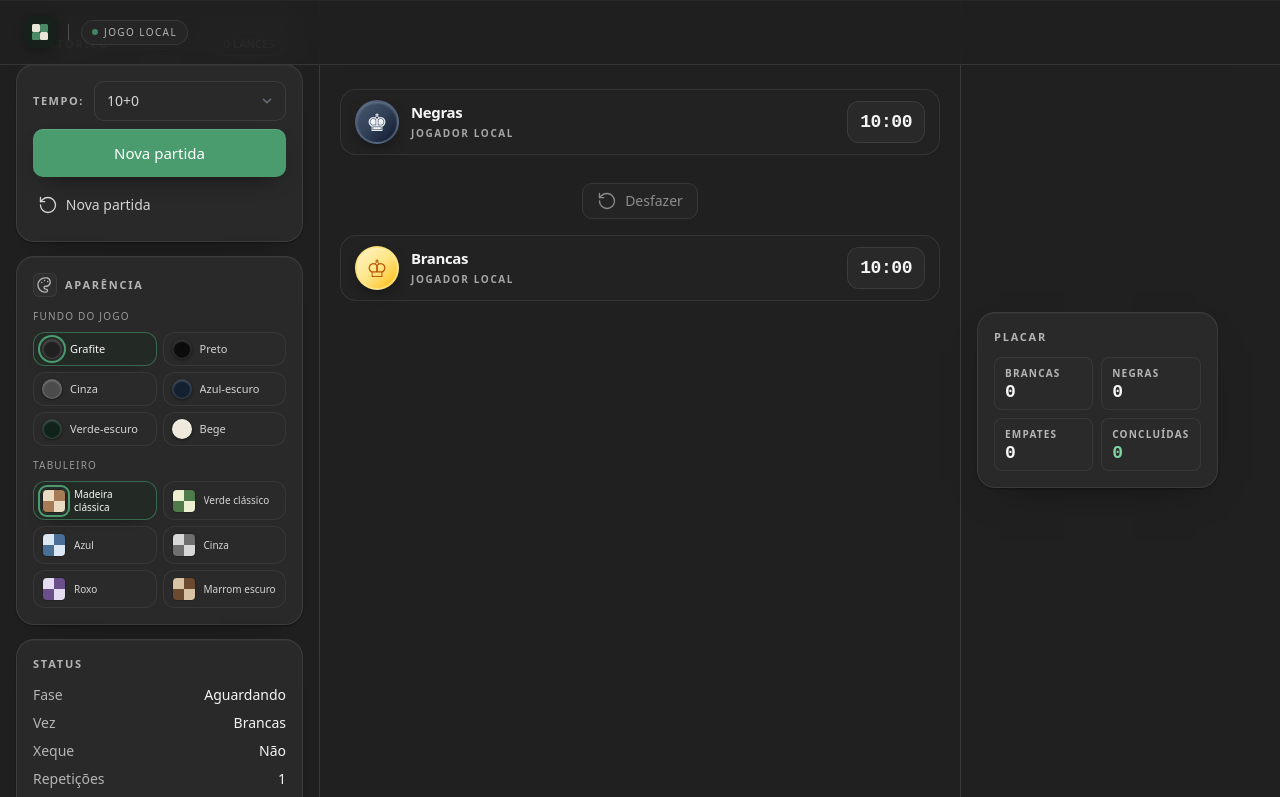
Test case: Personalização visual › aplica fundo e tabuleiro imediatamente e de forma independente
Later steps or results of the test are not shown.
Click the button with aria-label "Fundo Bege".
click(224, 429)  # box [162, 412, 286, 446]
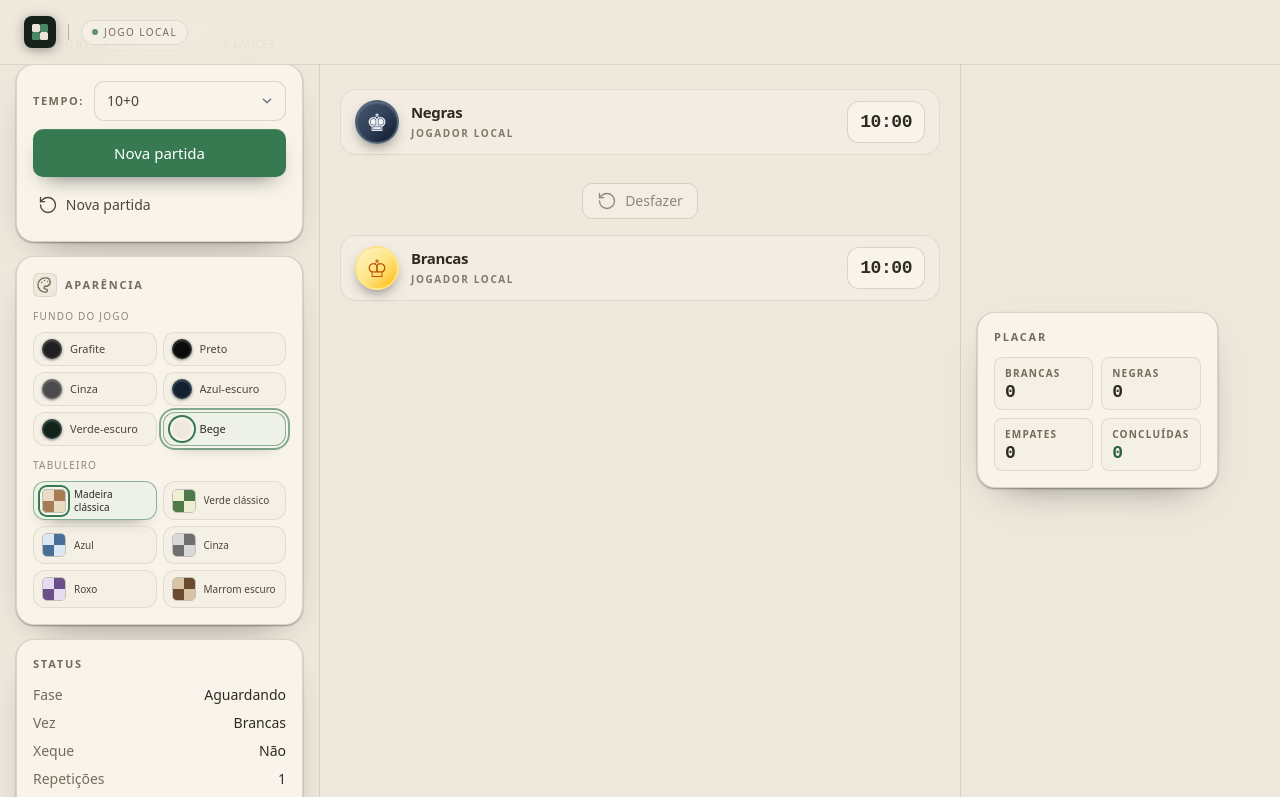
Now the button with aria-label "Fundo Bege" is pressed, box [162, 412, 286, 446]
Click the button with aria-label "Tema Roxo".
click(95, 589)  # box [33, 570, 156, 608]
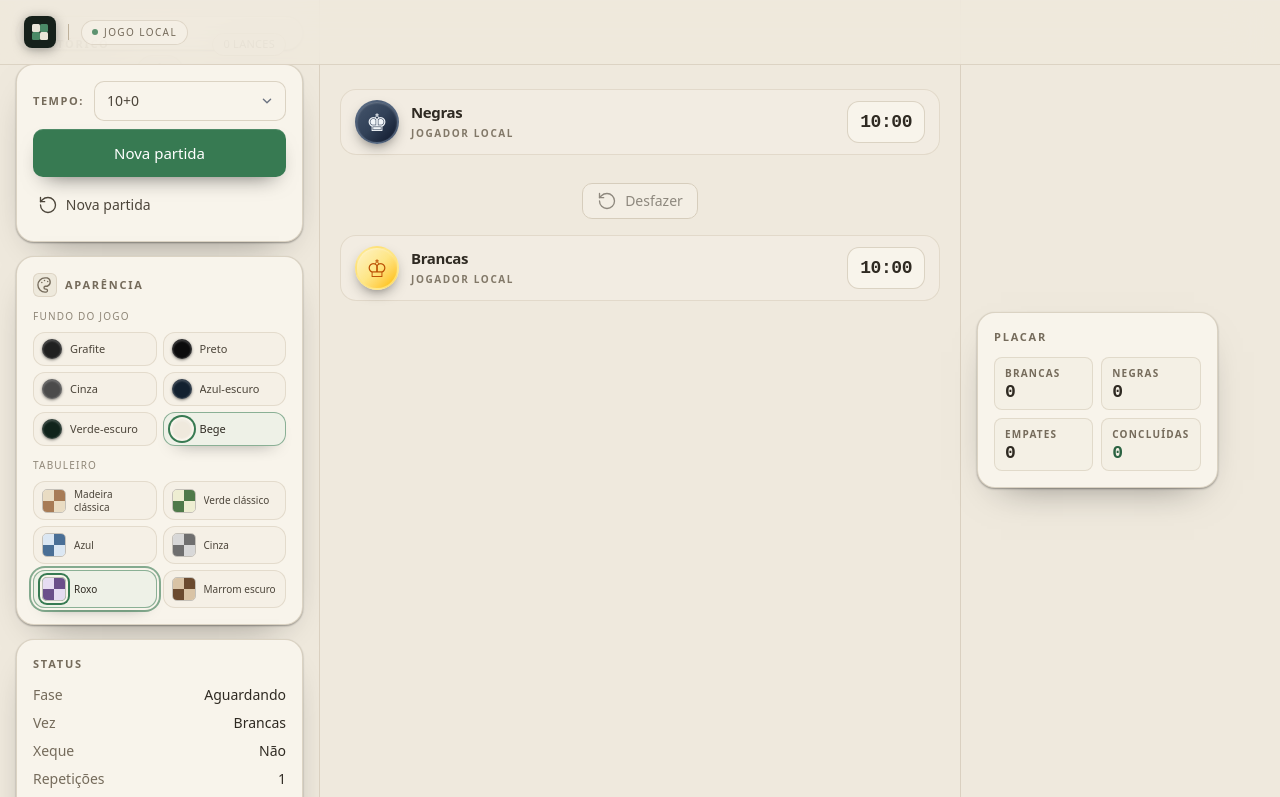
Now the button with aria-label "Tema Roxo" is pressed, box [33, 570, 156, 608]
